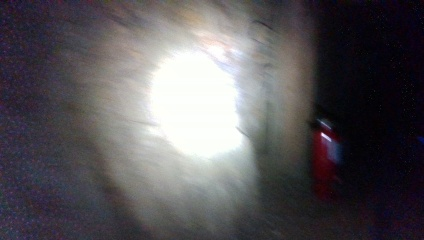fire_extinguisher: (305, 104, 341, 204)
